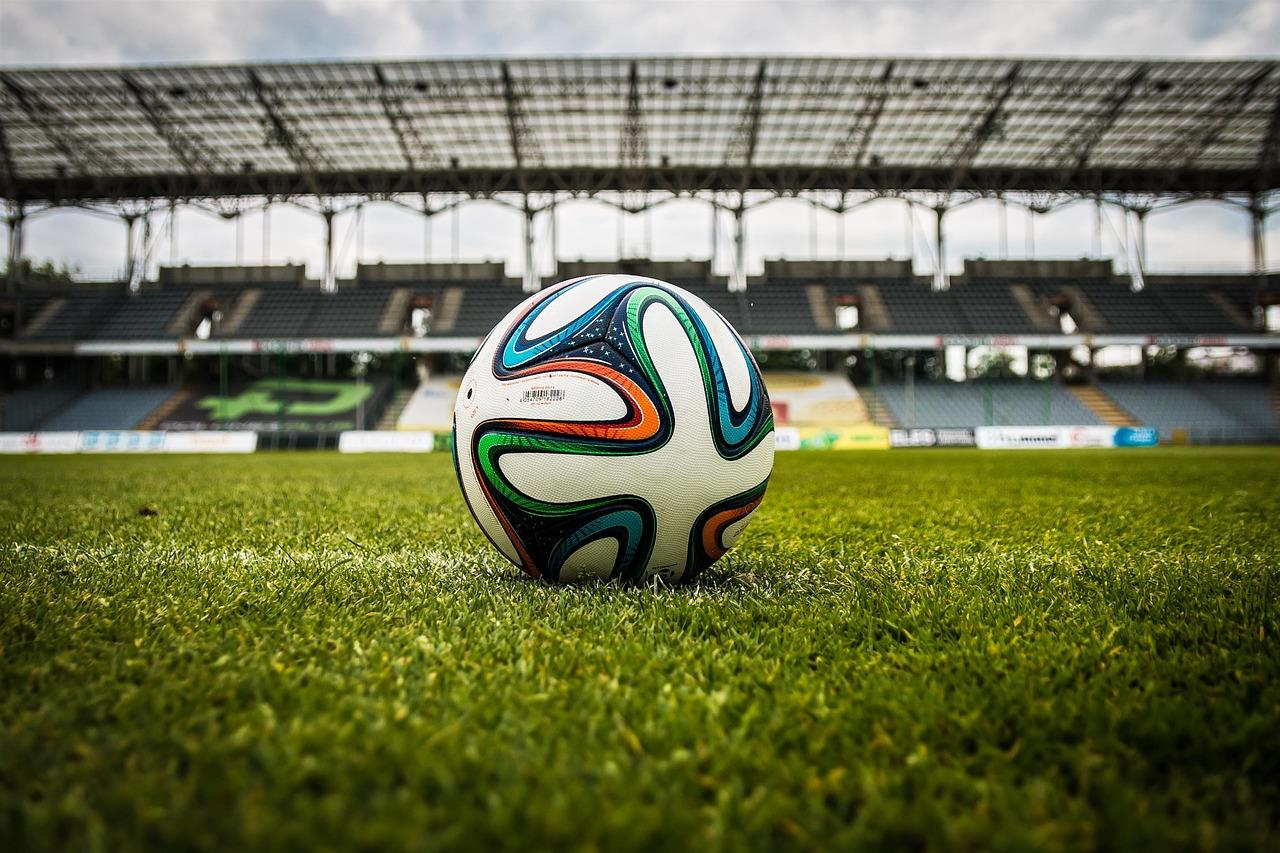ballon_football: (451, 271, 778, 595)
